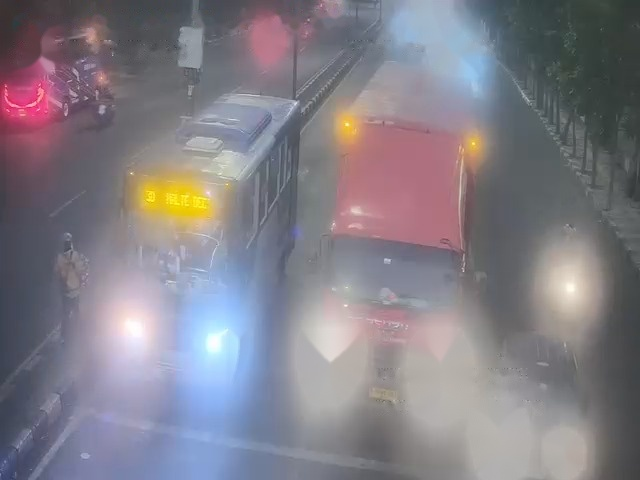Mobil: (489, 338, 582, 467), (12, 13, 108, 117)
Motor: (554, 263, 592, 315)
Truk: (122, 81, 292, 374), (327, 105, 479, 415)
